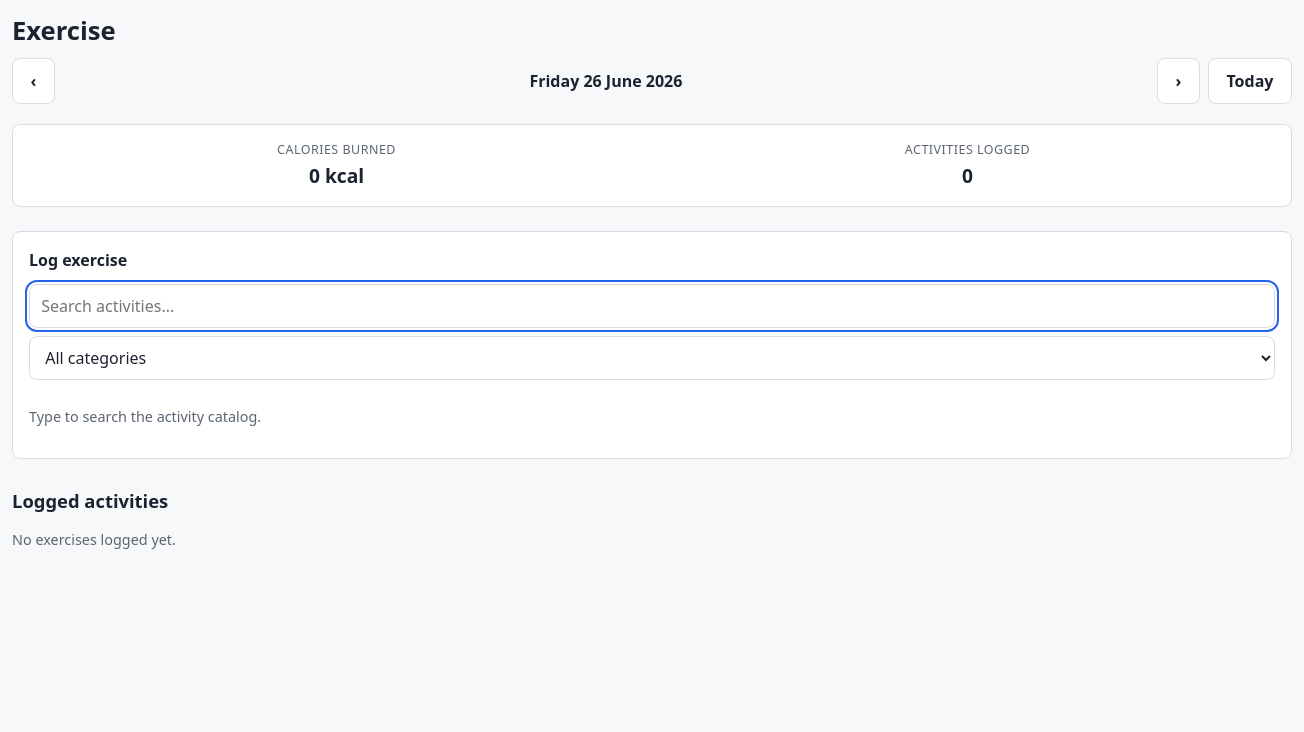
Scenario: ExercisePage › updates the daily total after logging
Type "run" into the search field.
click(652, 306); type("run")  # box [29,284,1275,328]
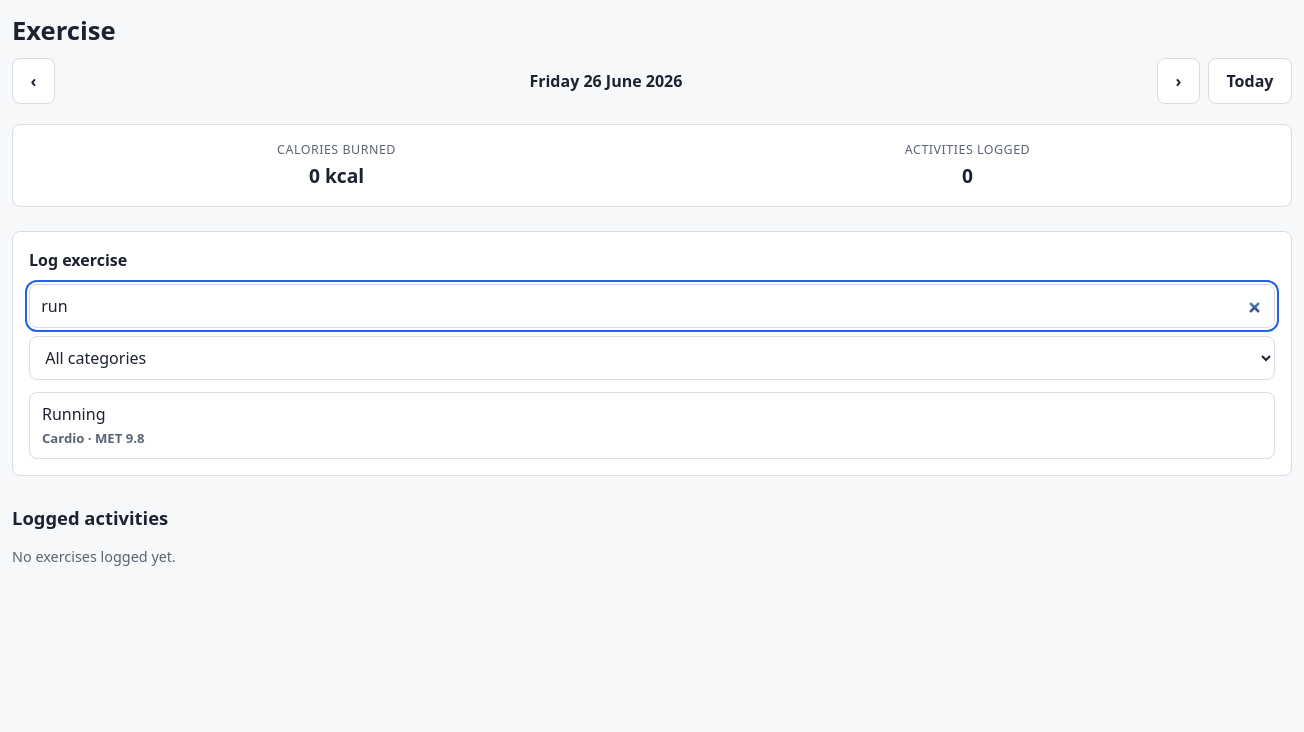
Click the button "Running Cardio · MET 9.8".
click(74, 414)  # box [29,392,1275,459]
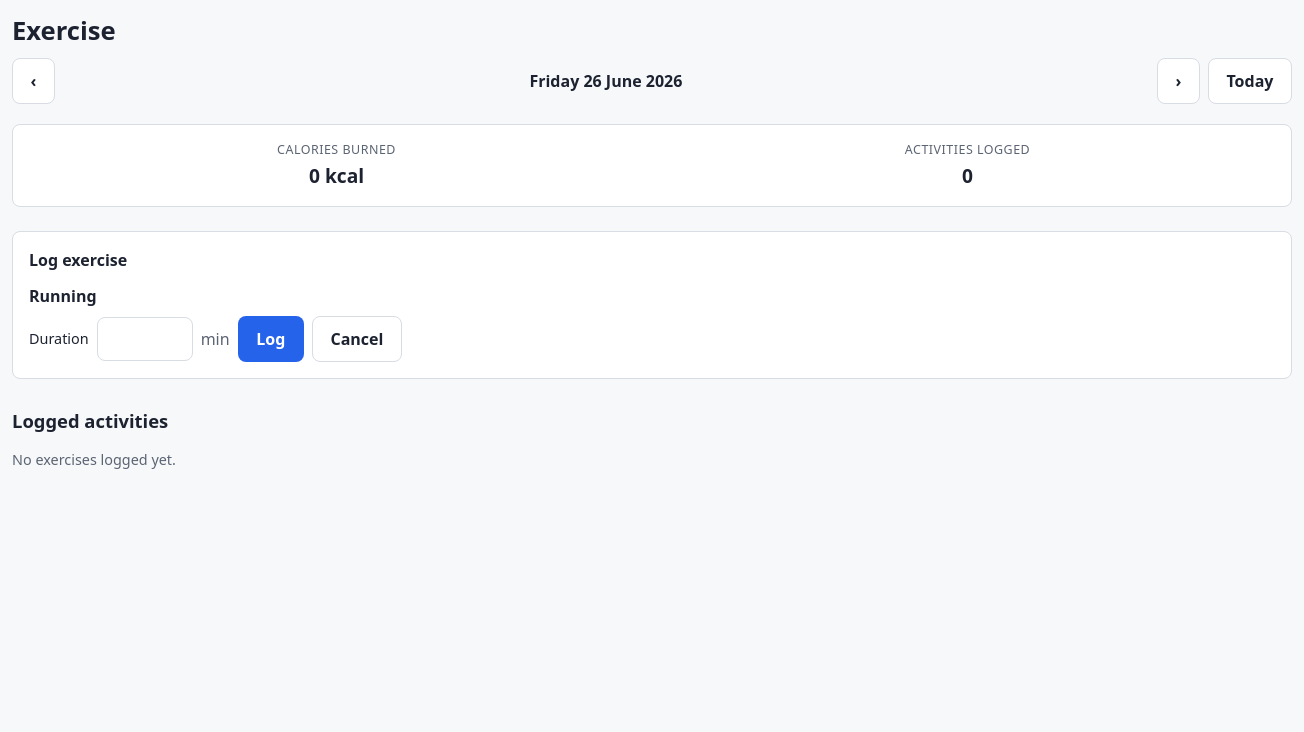
Type "30" into the number field labelled "Duration".
click(145, 339); type("30")  # box [97,317,193,361]
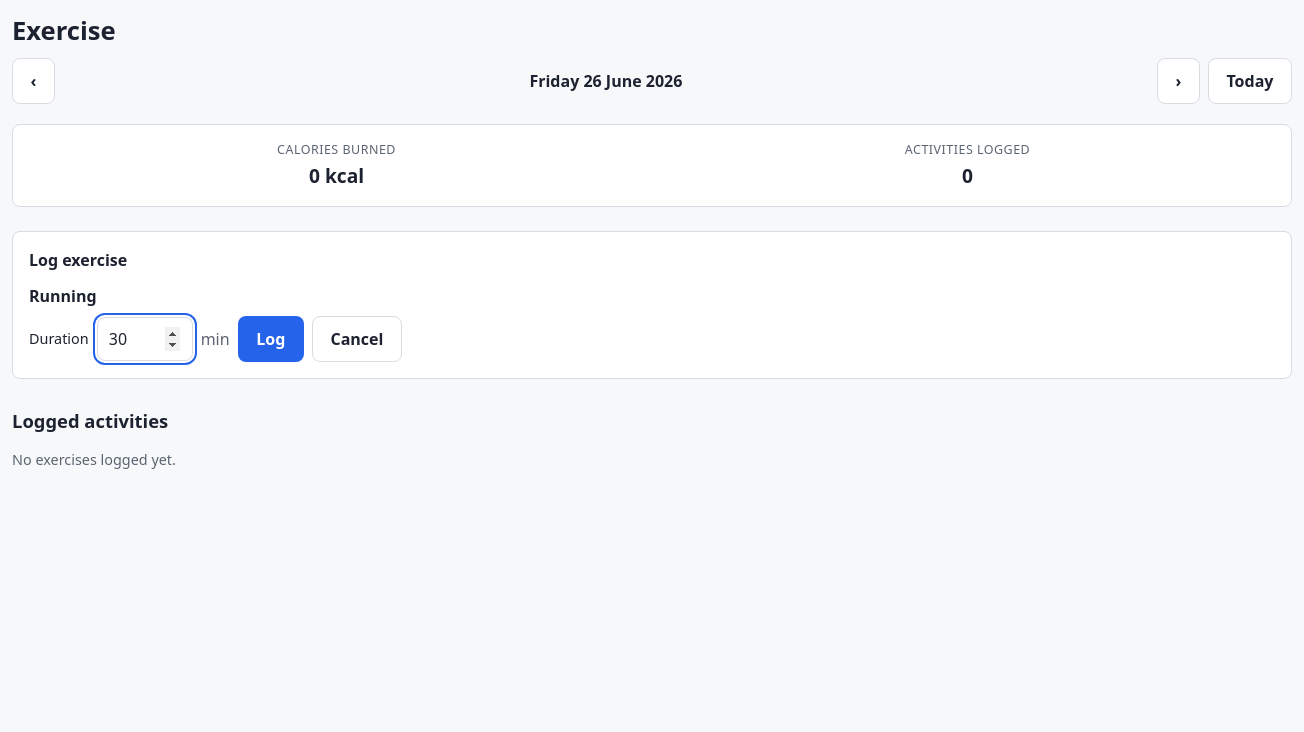
Click the button "Log".
click(271, 339)  # box [238,316,304,362]
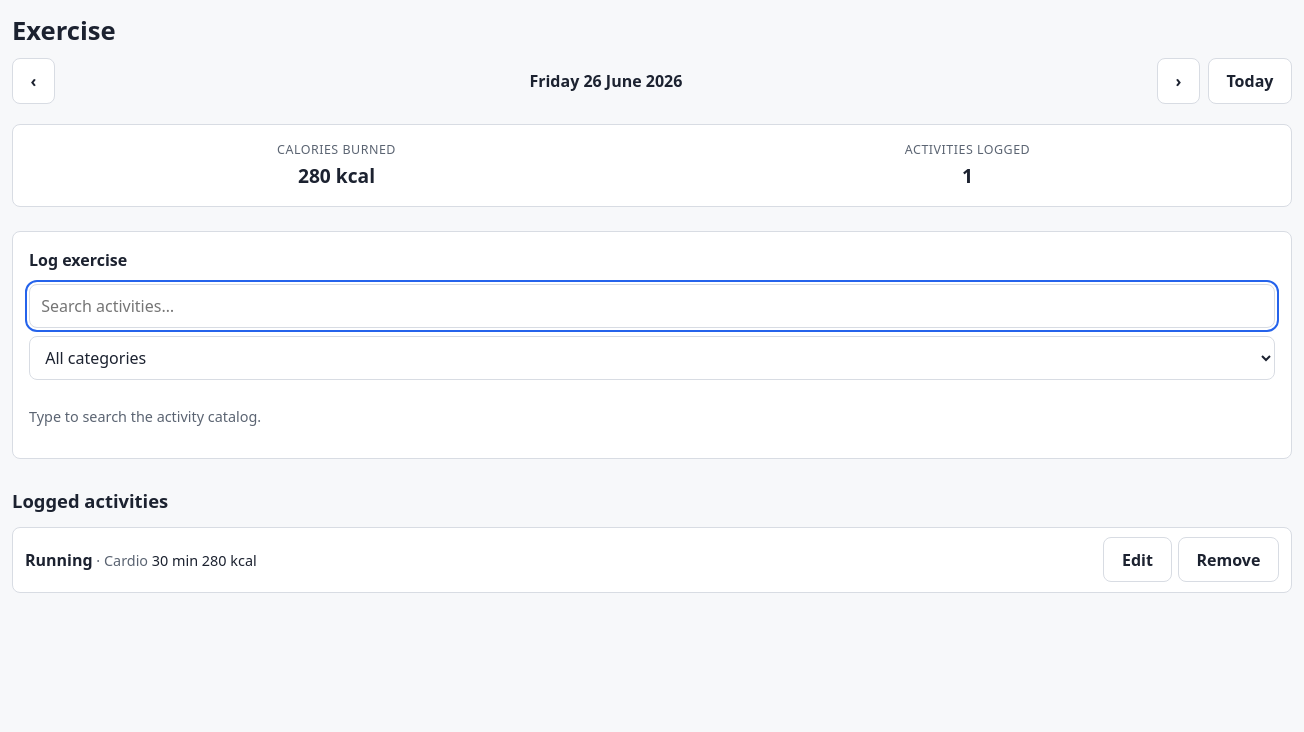
Expected: the text "280 kcal" below "Calories burned" is shown, [298,162,375,190]
